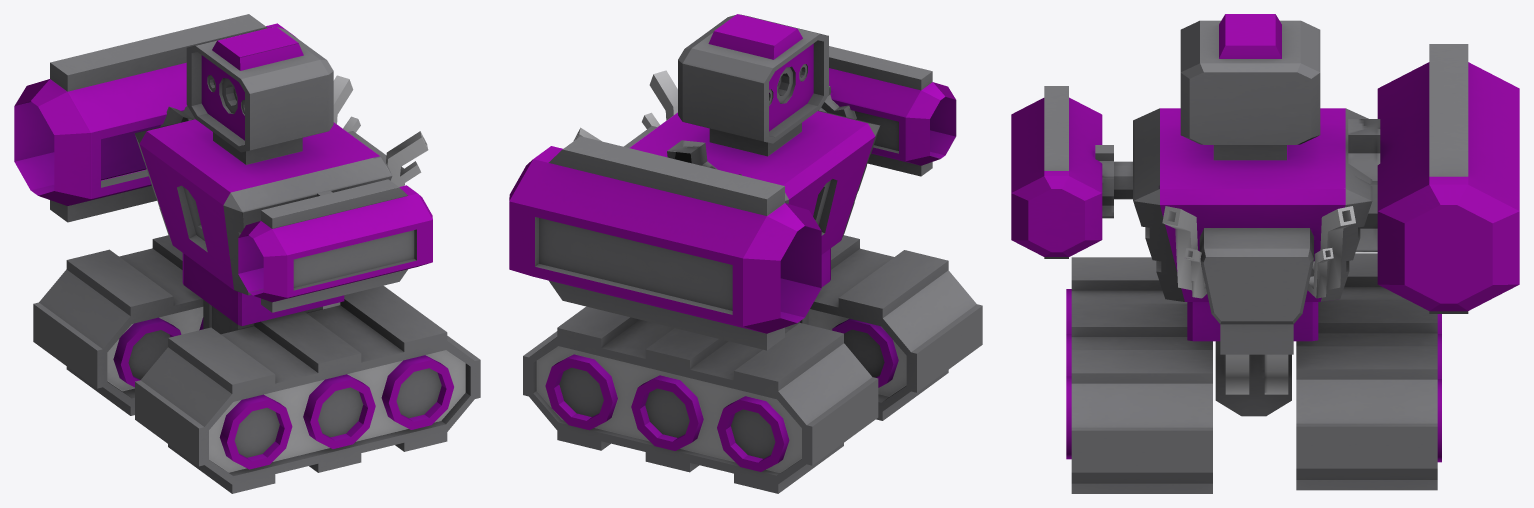
File: Enemy2_Attack0.obj
The picture shows the model from 3 angles, left to right: view 1: azimuth 30°, elevation 25°; view 2: azimuth 150°, elevation 25°; view 3: azimuth 270°, elevation 25°; orthographic projection. The views are drawn at different scales.
Visible parts, largest first — view 1: Object006, Object007, Object011, Object010; view 2: Object006, Object011, Object007, Object010, Object009; view 3: Object006, Object007, Object011, Object010, Object009, Object008.
Part boxes in pixels (x1,y1,x2,y2): Object006: (33, 179, 480, 493); Object007: (134, 26, 392, 334); Object011: (14, 14, 296, 222); Object010: (323, 75, 428, 309); Object006: (523, 46, 982, 493); Object011: (509, 136, 821, 350); Object007: (629, 14, 880, 329); Object010: (573, 70, 677, 147); Object009: (667, 140, 741, 175); Object006: (1011, 86, 1441, 493); Object007: (1133, 14, 1372, 416); Object011: (1377, 44, 1519, 313); Object010: (1162, 206, 1355, 394); Object009: (1348, 119, 1380, 252); Object008: (1095, 145, 1132, 218).
Size of the model in its own units: 87.04 by 108 by 123.
